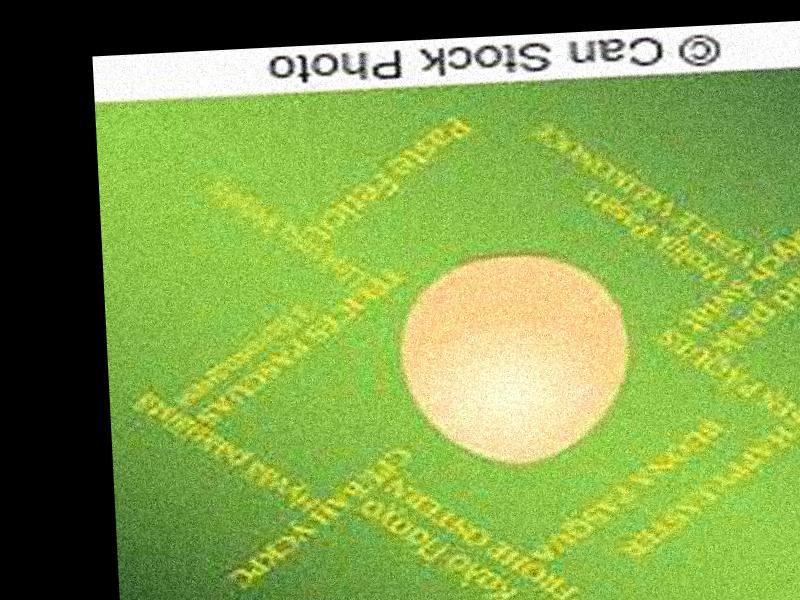Eggs: (400, 251, 632, 468)
